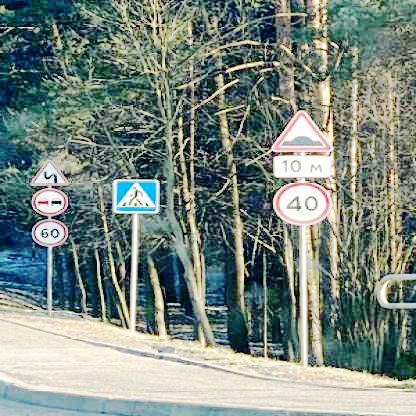Speed Limit -60-: (34, 216, 69, 251)
